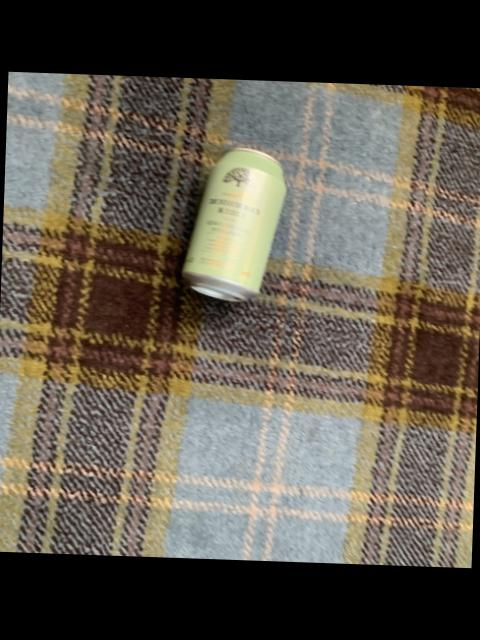metal: (183, 150, 286, 302)
